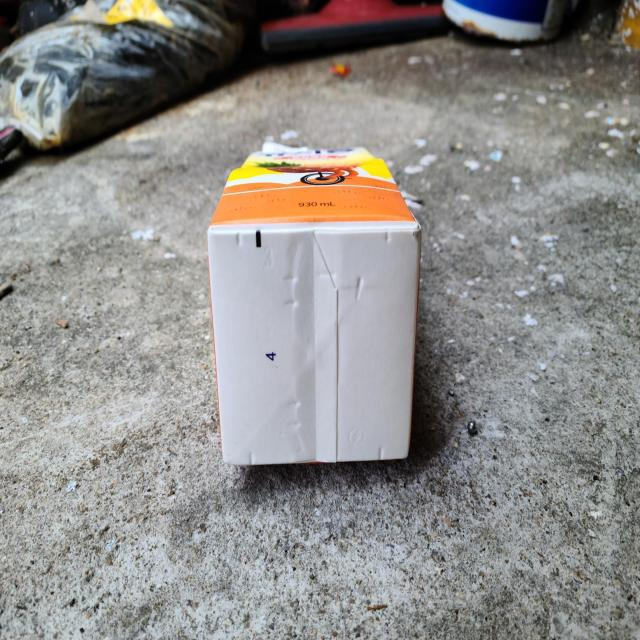paperpack: (208, 150, 421, 465)
